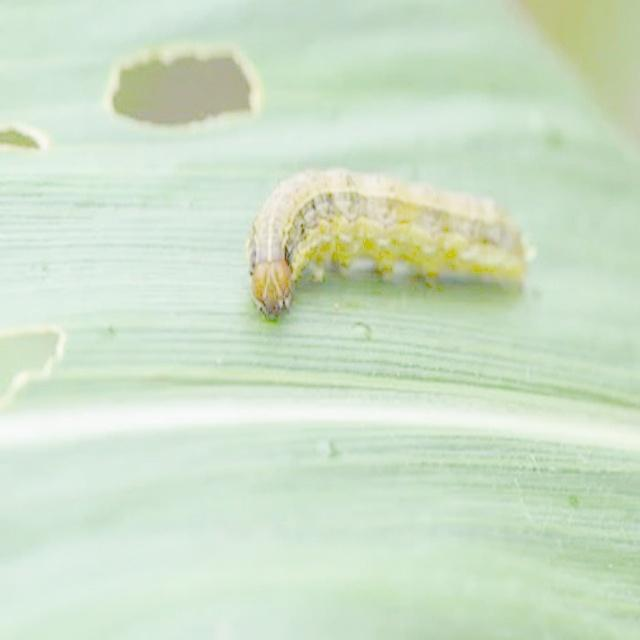gusano_cogollero: (242, 170, 530, 328)
